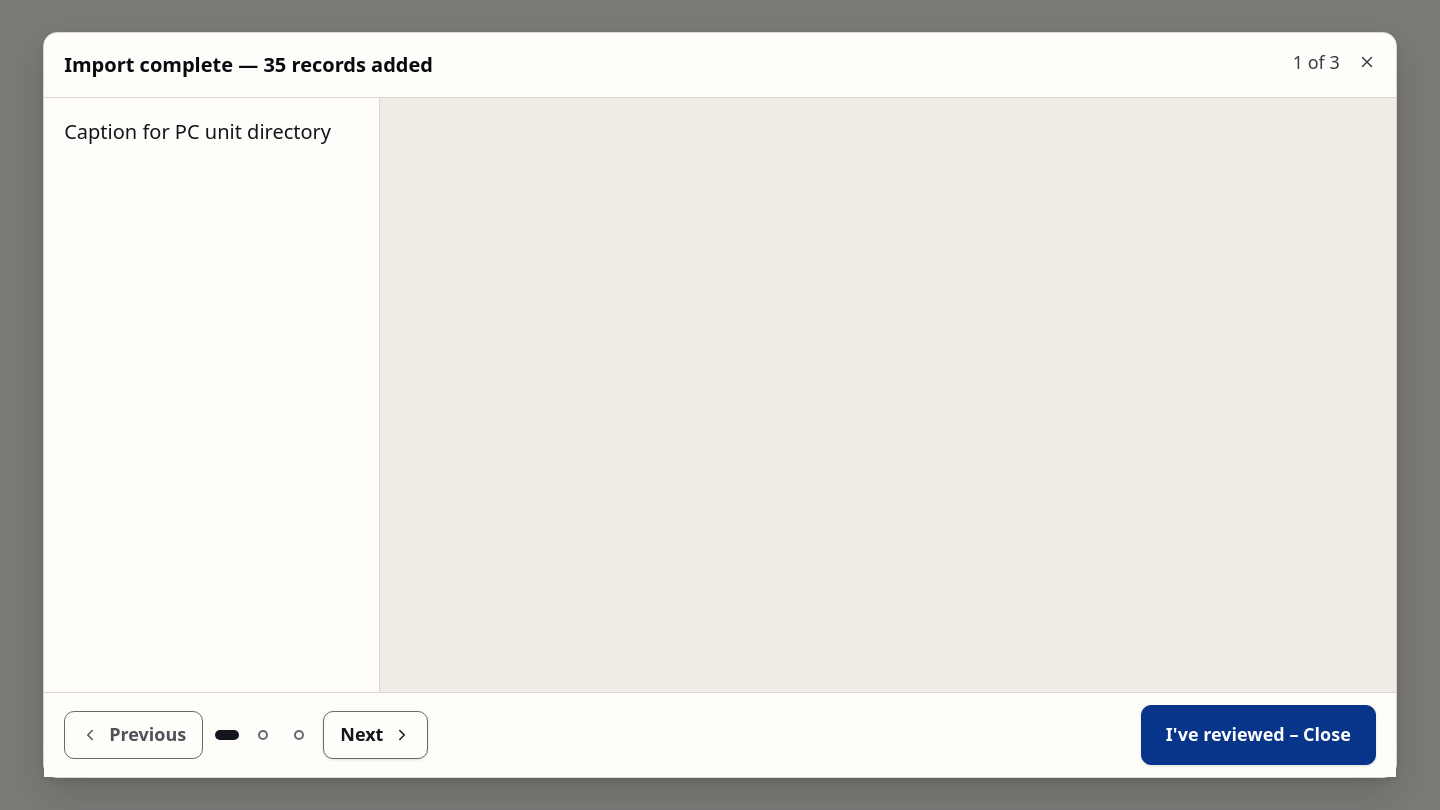
it: SlideshowModal › jumps with the dots and marks the current one
The width and height of the screenshot is (1440, 810).
What coordinates should you click on to do the following:
click the button named "Slide 3: Room details"
I would click on:
 (299, 735)
Its box is [283,719,315,751].
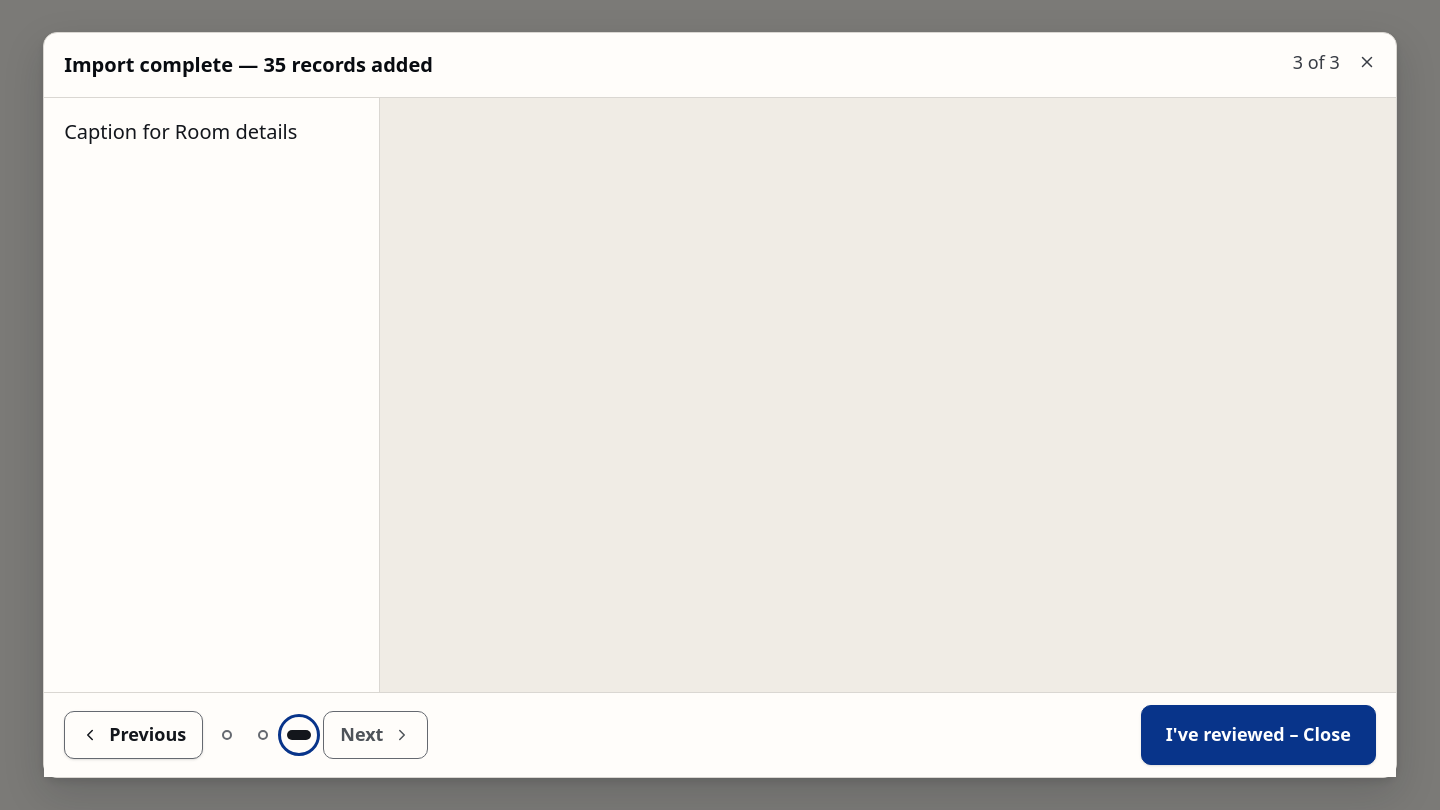
Expected: the element named "3 of 3: Room details" is shown
